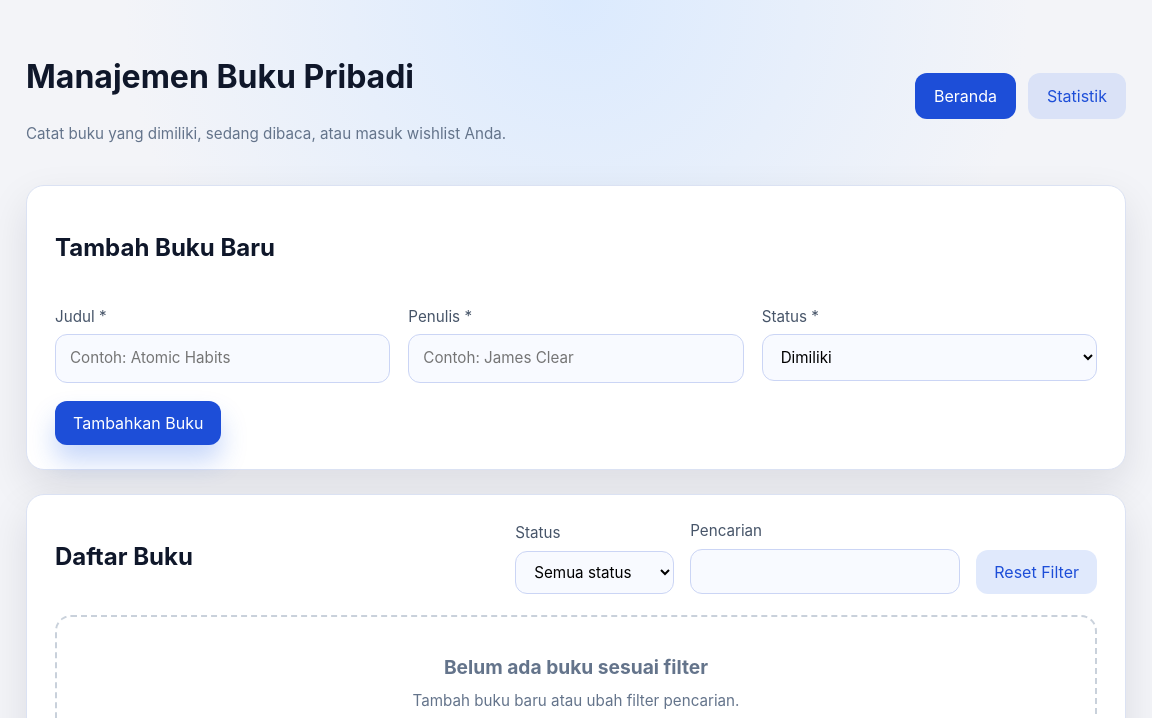
Test: Aplikasi Manajemen Buku Pribadi › memvalidasi form saat input kosong
Click the button "Tambahkan Buku".
click(138, 423)  # box [55,401,222,445]
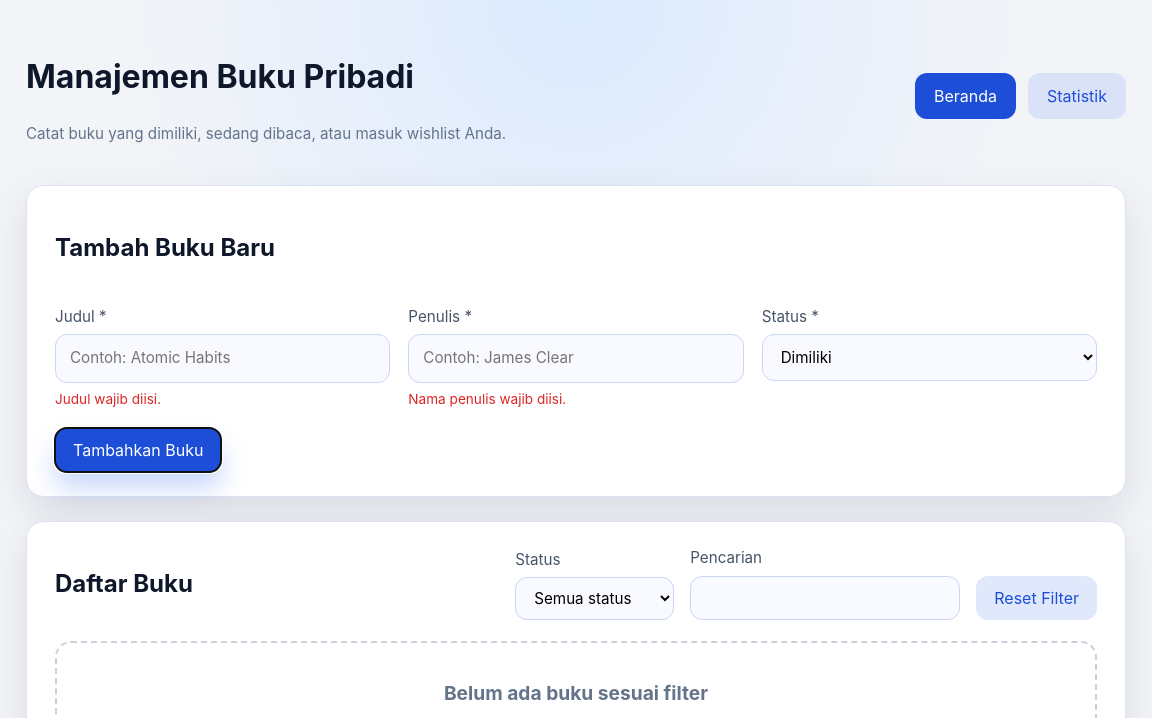
Expected: the text "Judul wajib diisi." is shown, [55,391,161,407]
Expected: the text "Nama penulis wajib diisi." is shown, [408,391,566,407]
